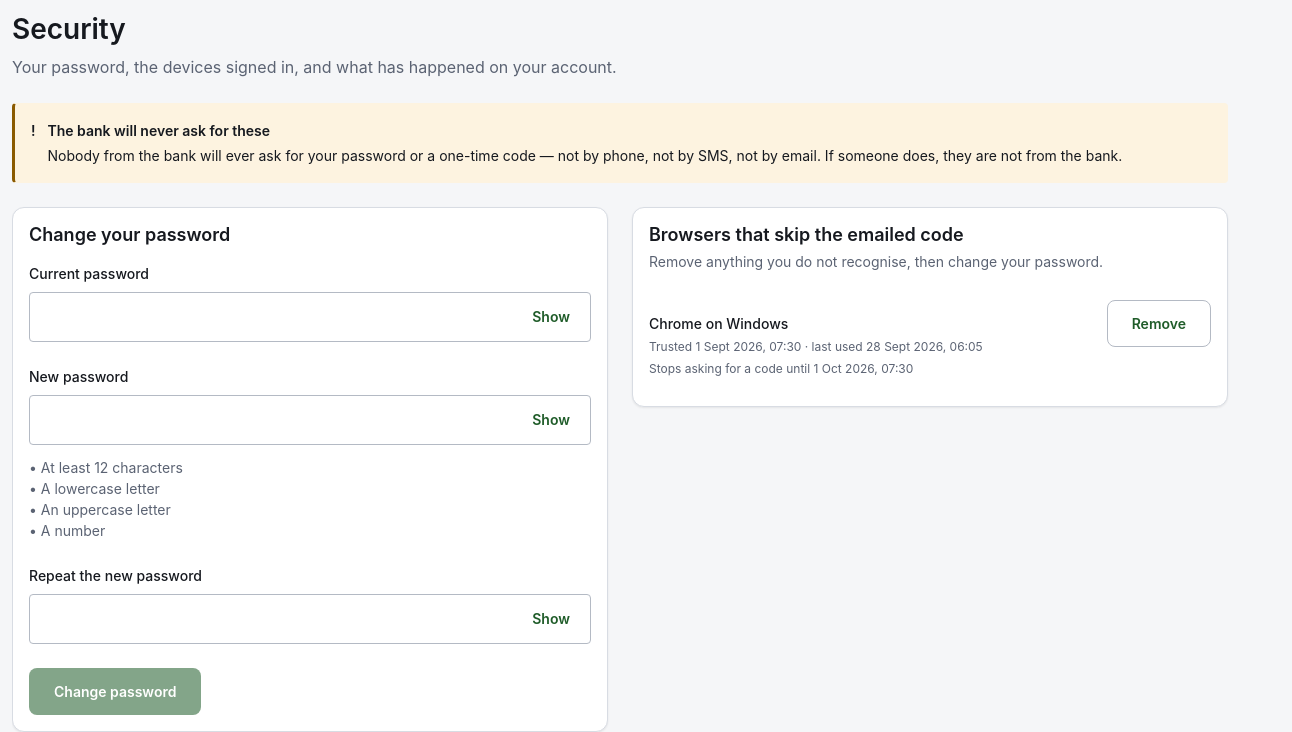
Test: SecurityPage › TELLS THE CUSTOMER THEIR BROWSERS WERE SIGNED OUT
This screenshot has width=1292, height=732.
Check: the text "Chrome on Windows" is shown, box [649,314,788,332]
Step 1. Type "Seeded1Password" into the password field labelled "Current password" → (310, 316), box [29,292,591,342]
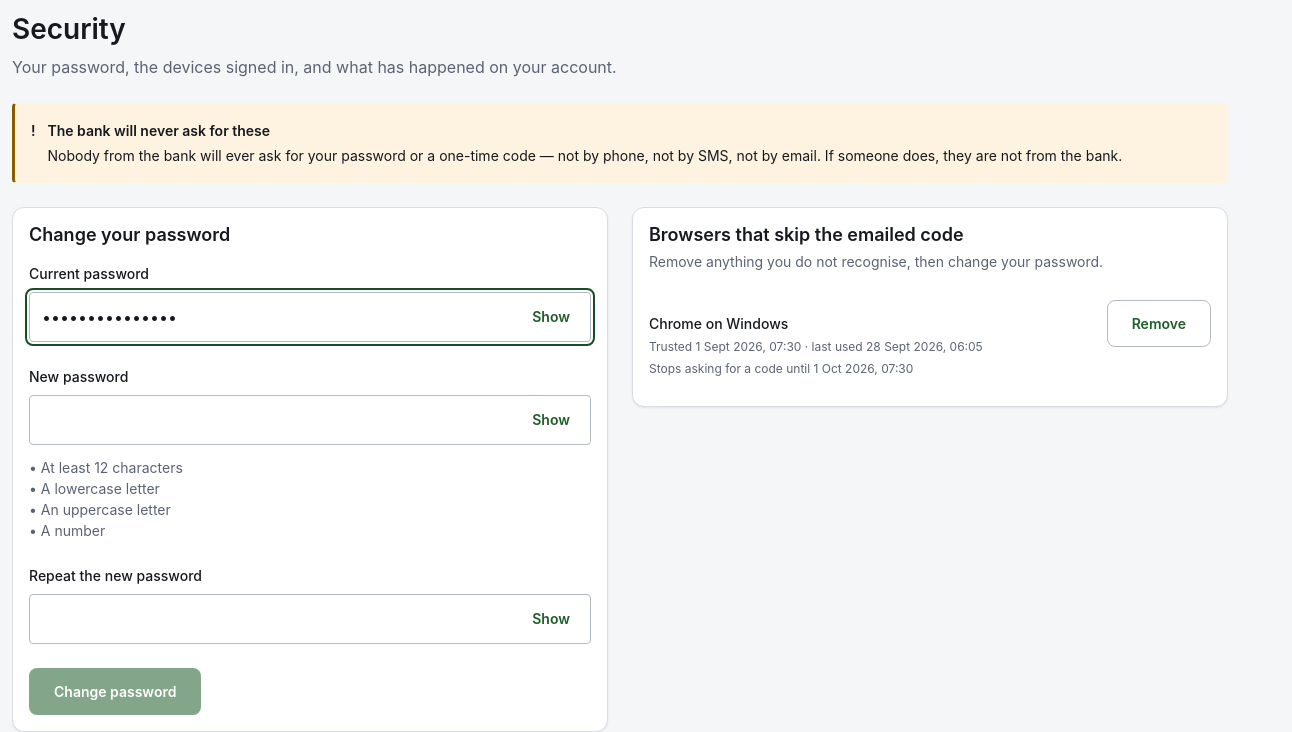
Step 2. Type "Correct-Horse-9-Battery" into the password field labelled "New password" → (310, 420), box [29,394,591,444]
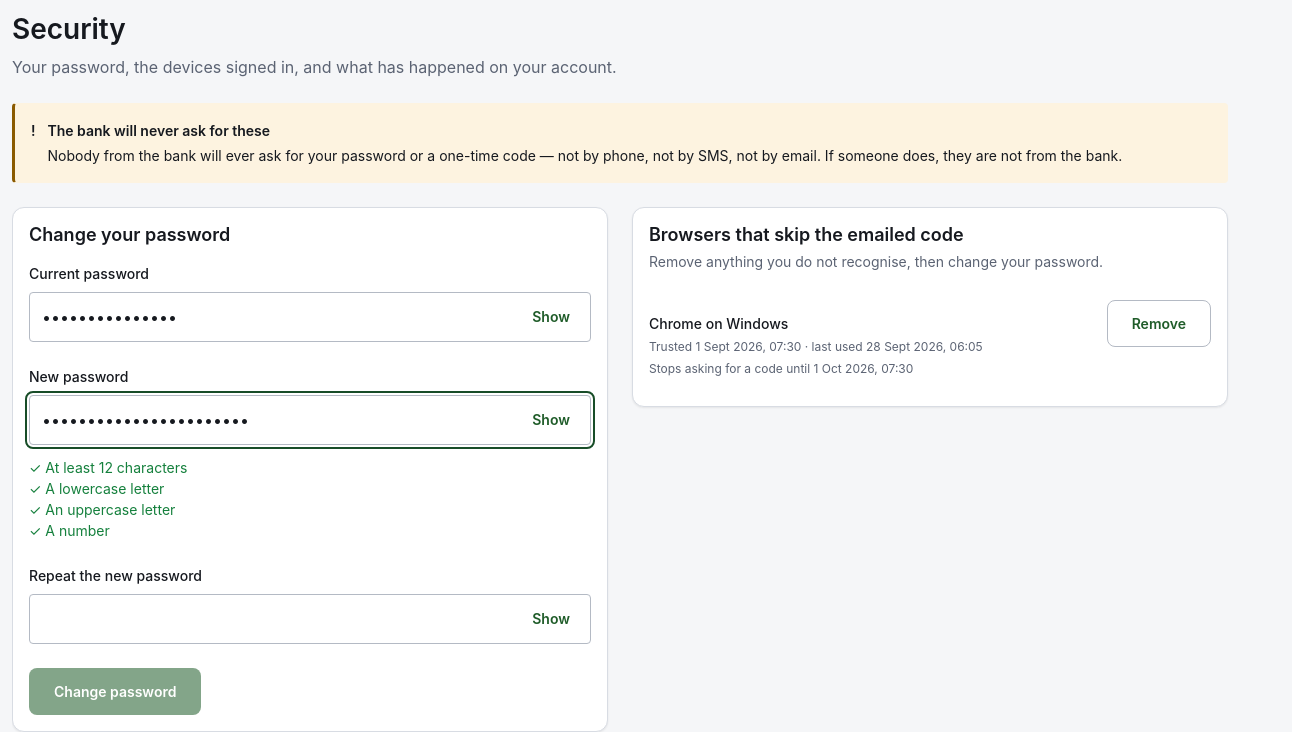
Step 3. Type "Correct-Horse-9-Battery" into the password field labelled "Repeat the new password" → (310, 618), box [29,594,591,644]
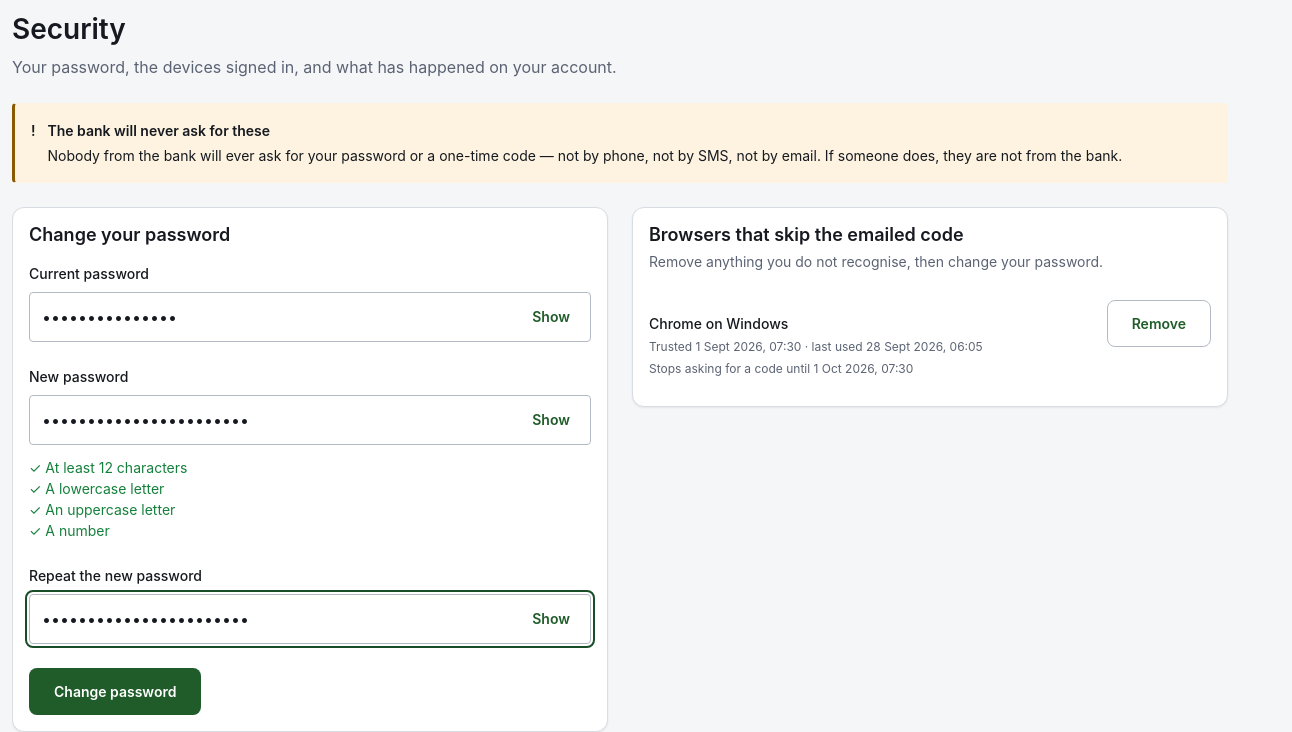
Step 4. Click the button "Change password" → (115, 691), box [29,668,201,714]
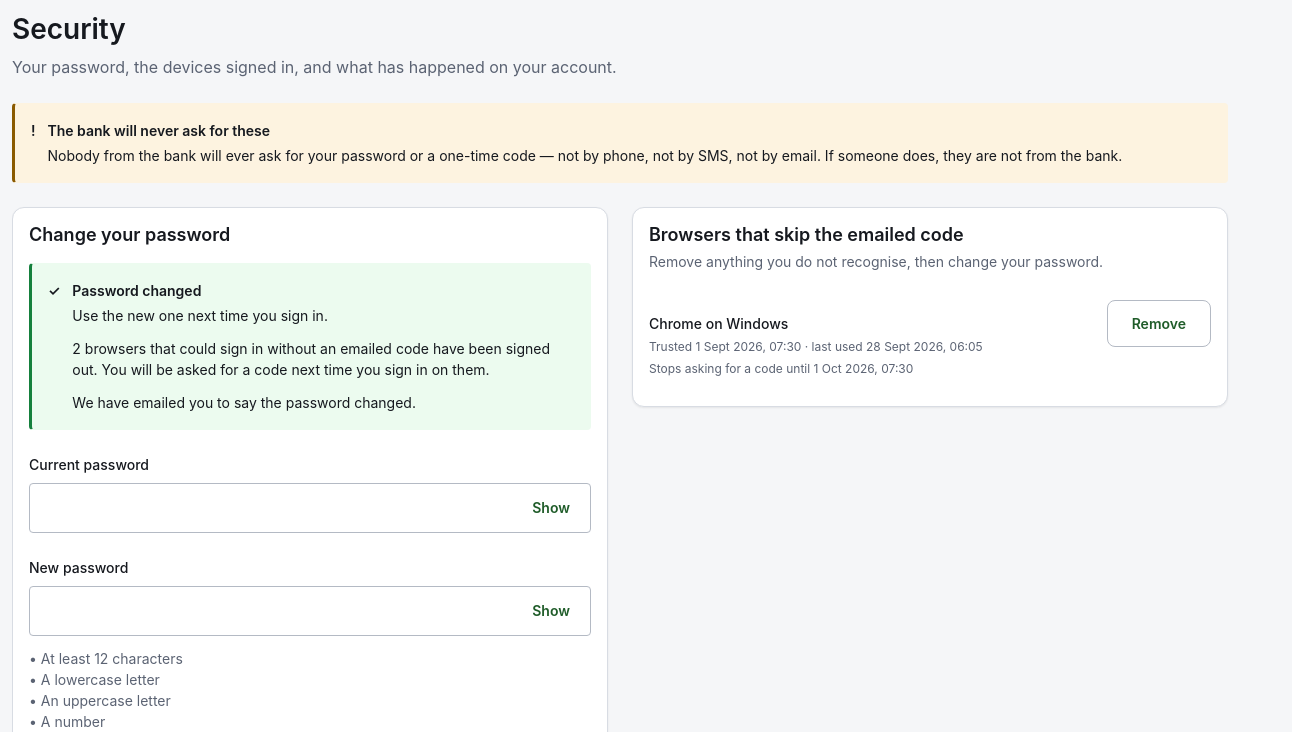
Check: the text "2 browsers that could sign in without an emailed code have been signed out" is shown, box [72,340,550,378]
